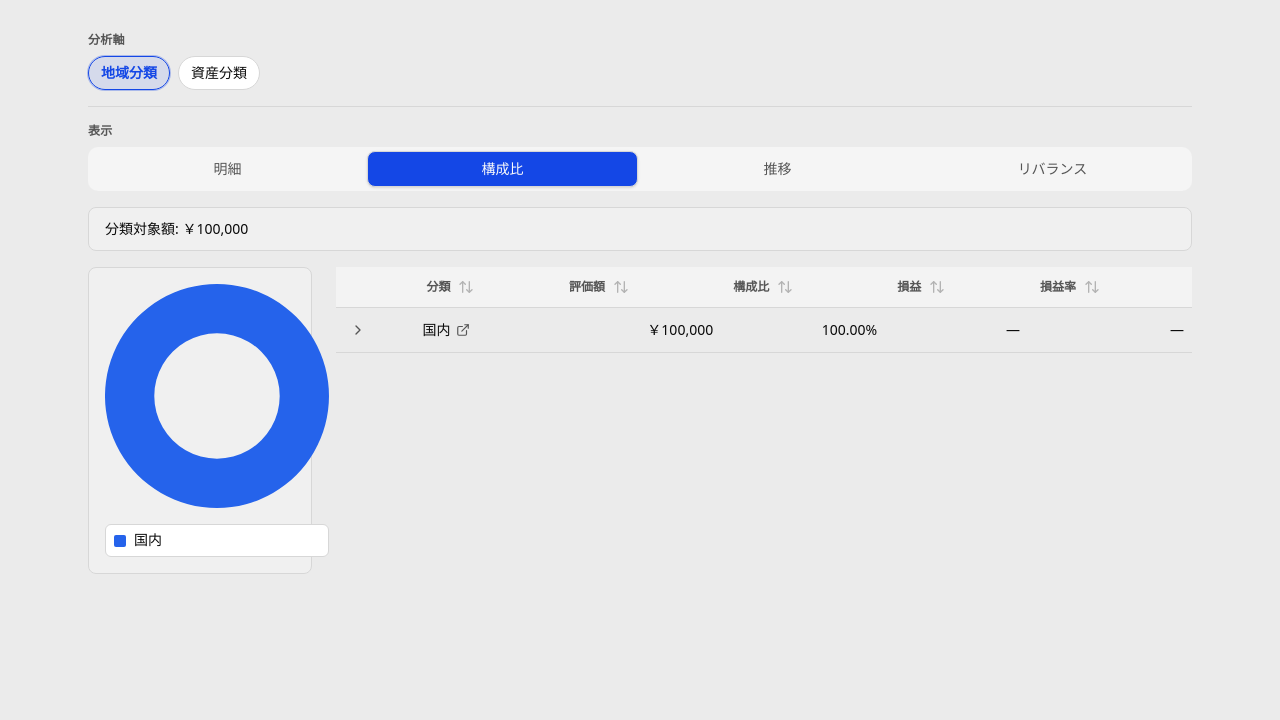
AnalysisView › switches scheme tabs and expands allocation breakdown
Click the tab "資産分類" at coordinates (219, 73), box [178,56,260,90]
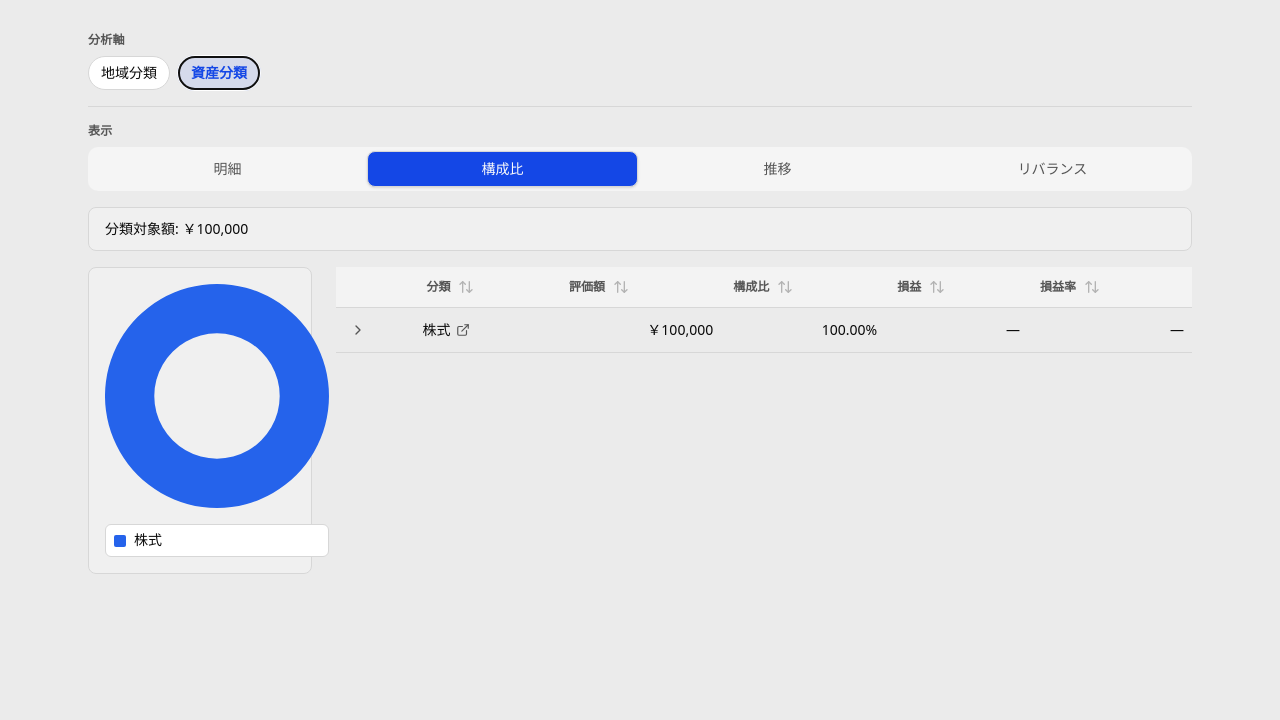
Now the tab "資産分類" is selected, box [178,56,260,90]
Click the button named "株式 の内訳を開く" at coordinates (358, 330), box [344,316,372,344]
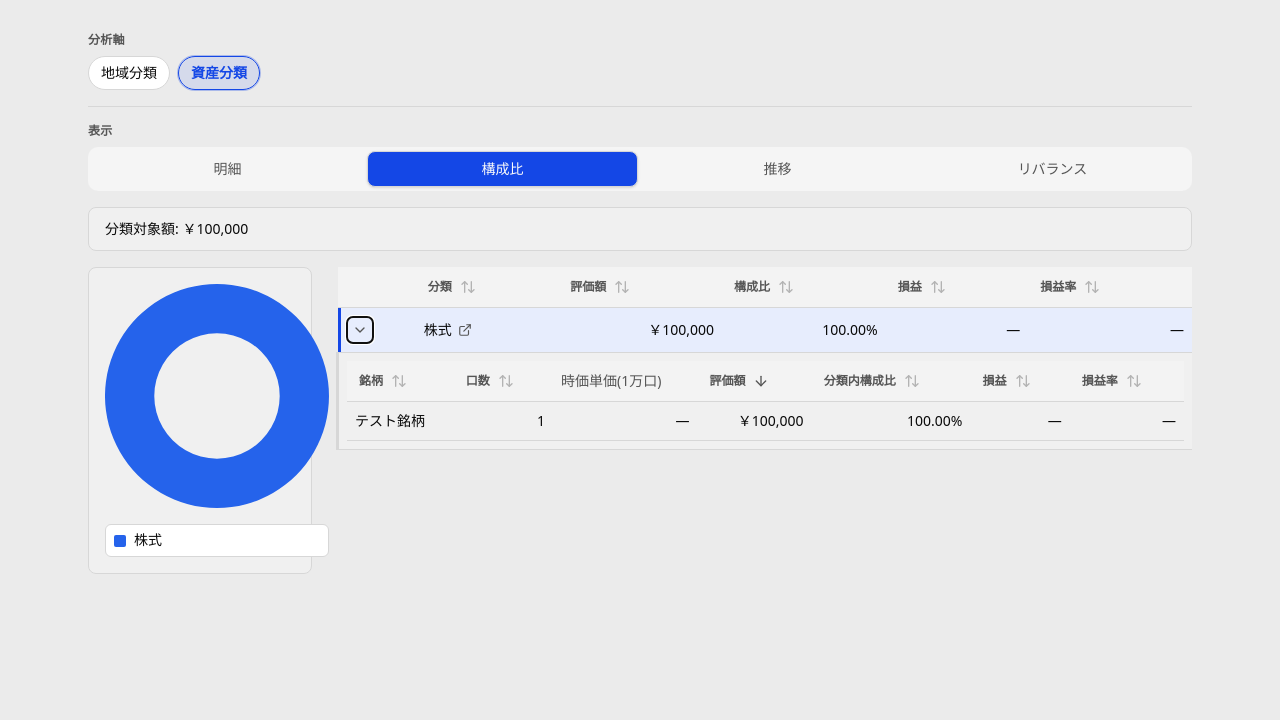
Now the text "テスト銘柄" is shown, box [347,401,454,441]
